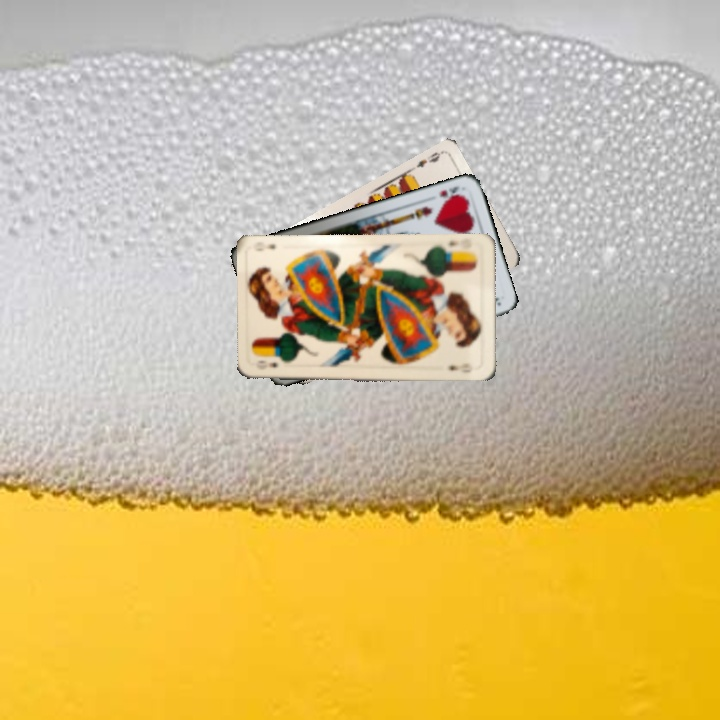E9: (412, 147, 445, 170)
EO: (439, 236, 475, 256), (251, 358, 280, 372)
HK: (436, 182, 466, 205)
